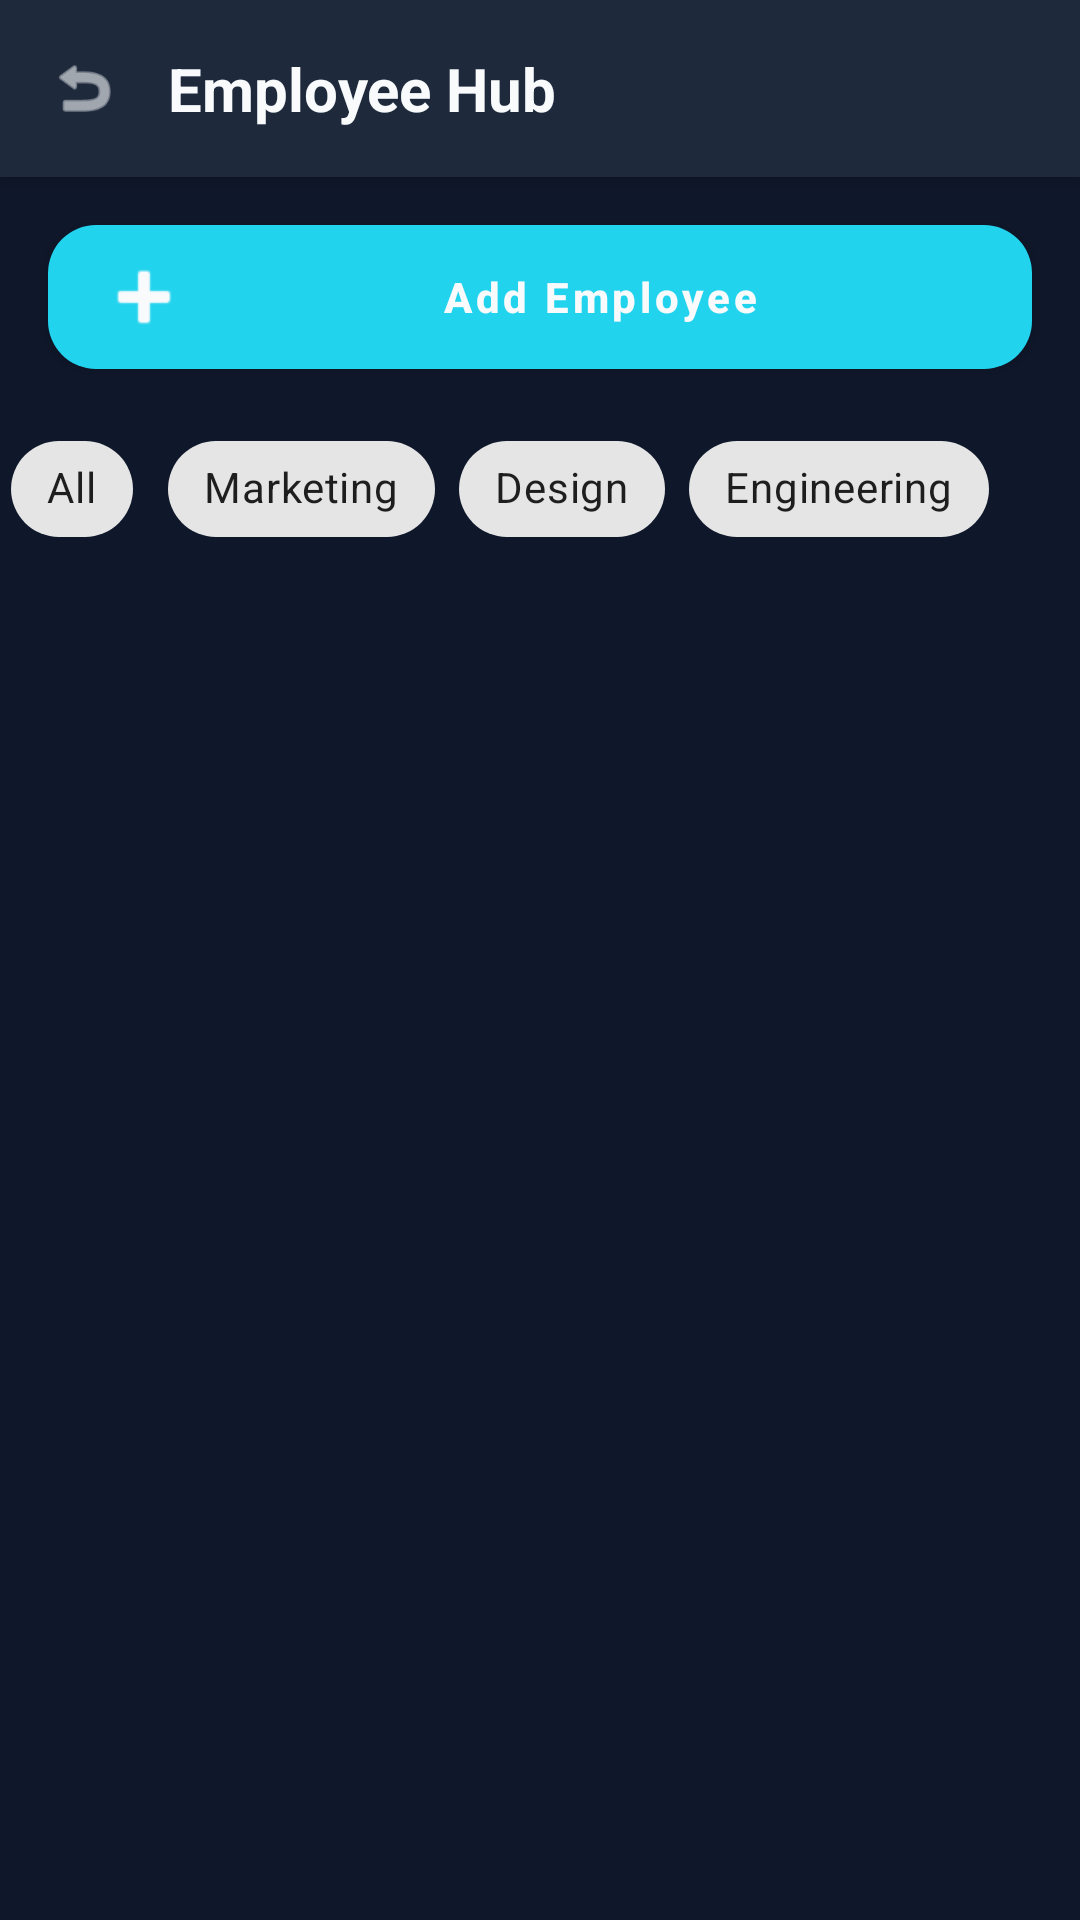

Icon click points for this 1080 × 1920 phone screenshot, format point (x, y):
revert: point (85, 88)
